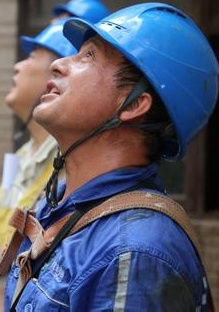hard-hat: (18, 17, 78, 57)
